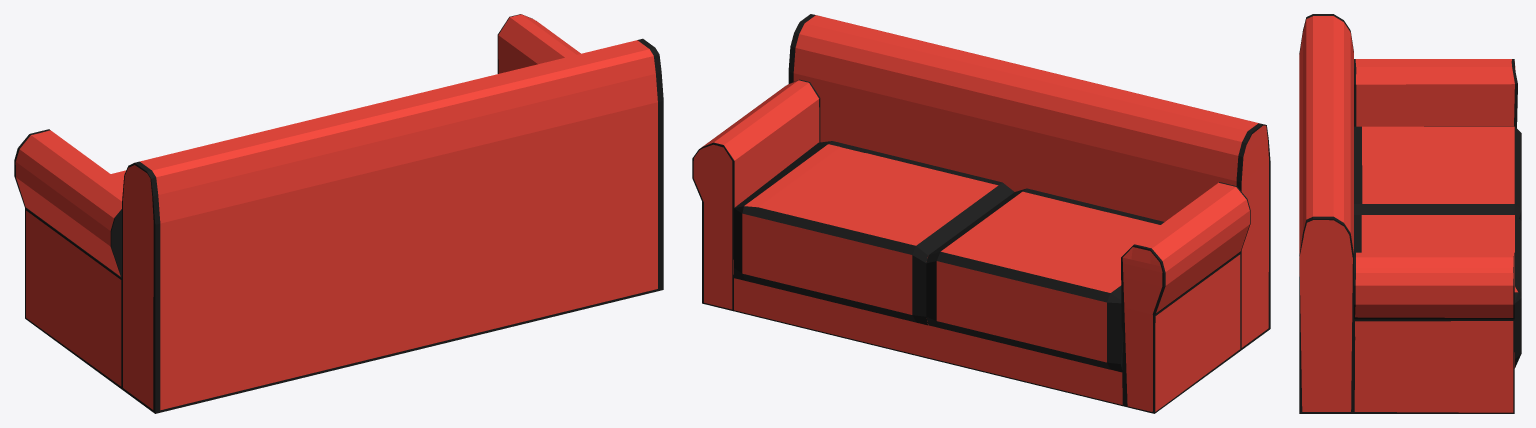
The model's file is couch.obj.
3 renders of one model, left to right at view 1: azimuth 30°, elevation 25°; view 2: azimuth 150°, elevation 25°; view 3: azimuth 270°, elevation 25°, orthographic. The views are drawn at different scales.
Visible parts, largest first — view 1: group709040250, group1811162074, group579344176; view 2: group709040250, group486532278, group2000925213, group1811162074, group1646562559, group579344176; view 3: group579344176, group709040250, group2000925213, group1811162074, group486532278.
Part boxes in pixels (x1,y1,x2,y2): group709040250: (122, 38, 663, 413); group1811162074: (14, 129, 123, 389); group579344176: (497, 14, 580, 73); group709040250: (788, 14, 1270, 350); group486532278: (733, 141, 1014, 325); group2000925213: (926, 188, 1164, 372); group1811162074: (1121, 182, 1250, 413); group1646562559: (734, 278, 1122, 405); group579344176: (692, 79, 820, 311); group579344176: (1354, 252, 1514, 413); group709040250: (1299, 14, 1353, 413); group2000925213: (1354, 126, 1521, 220); group1811162074: (1354, 59, 1517, 127); group486532278: (1354, 215, 1521, 368).
Bounding box in the file's own units: 1.48 × 0.63 × 0.65.
